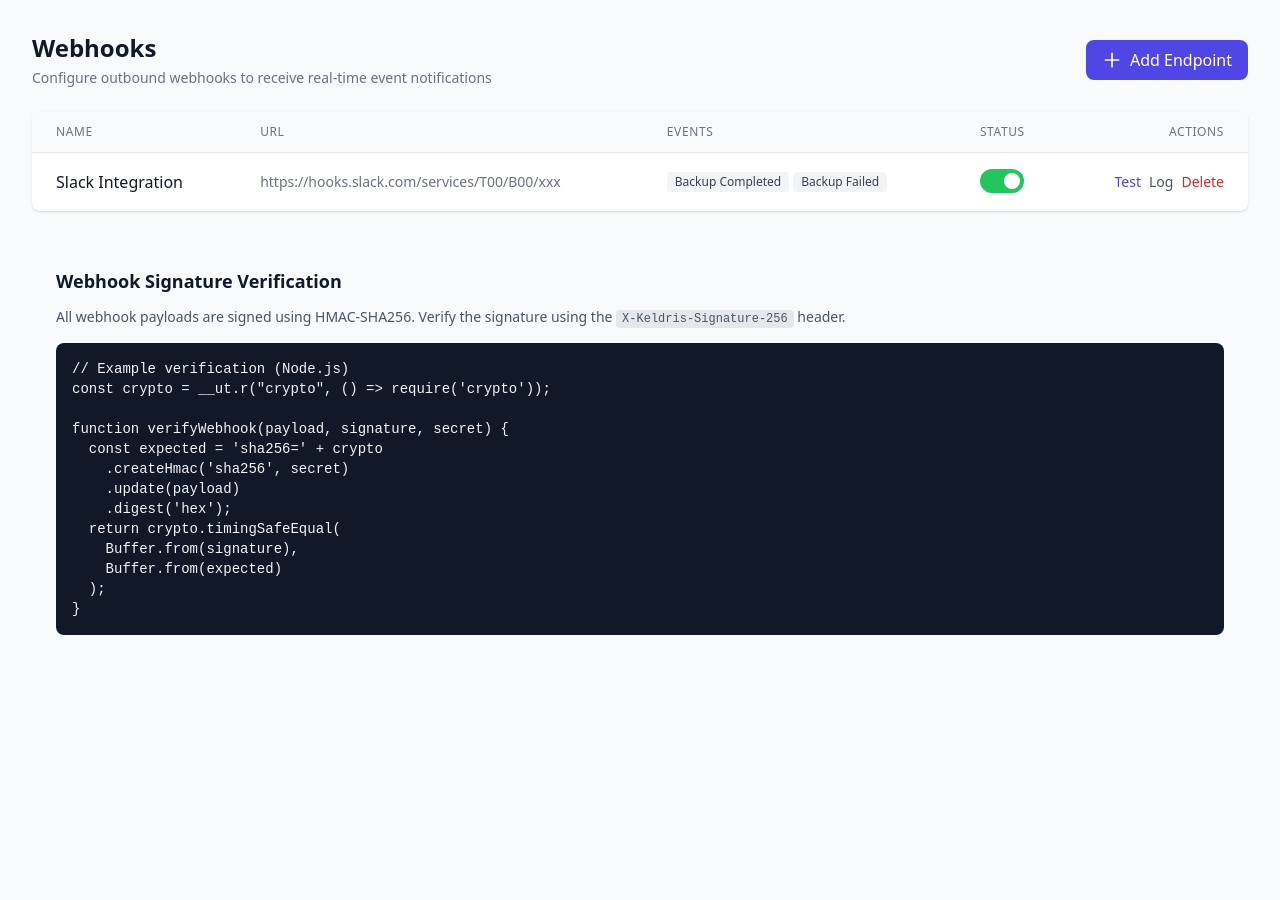
Test case: Webhooks › shows delivery log data in modal
Click the button "Log".
click(1161, 182)  # box [1149,172,1173,192]
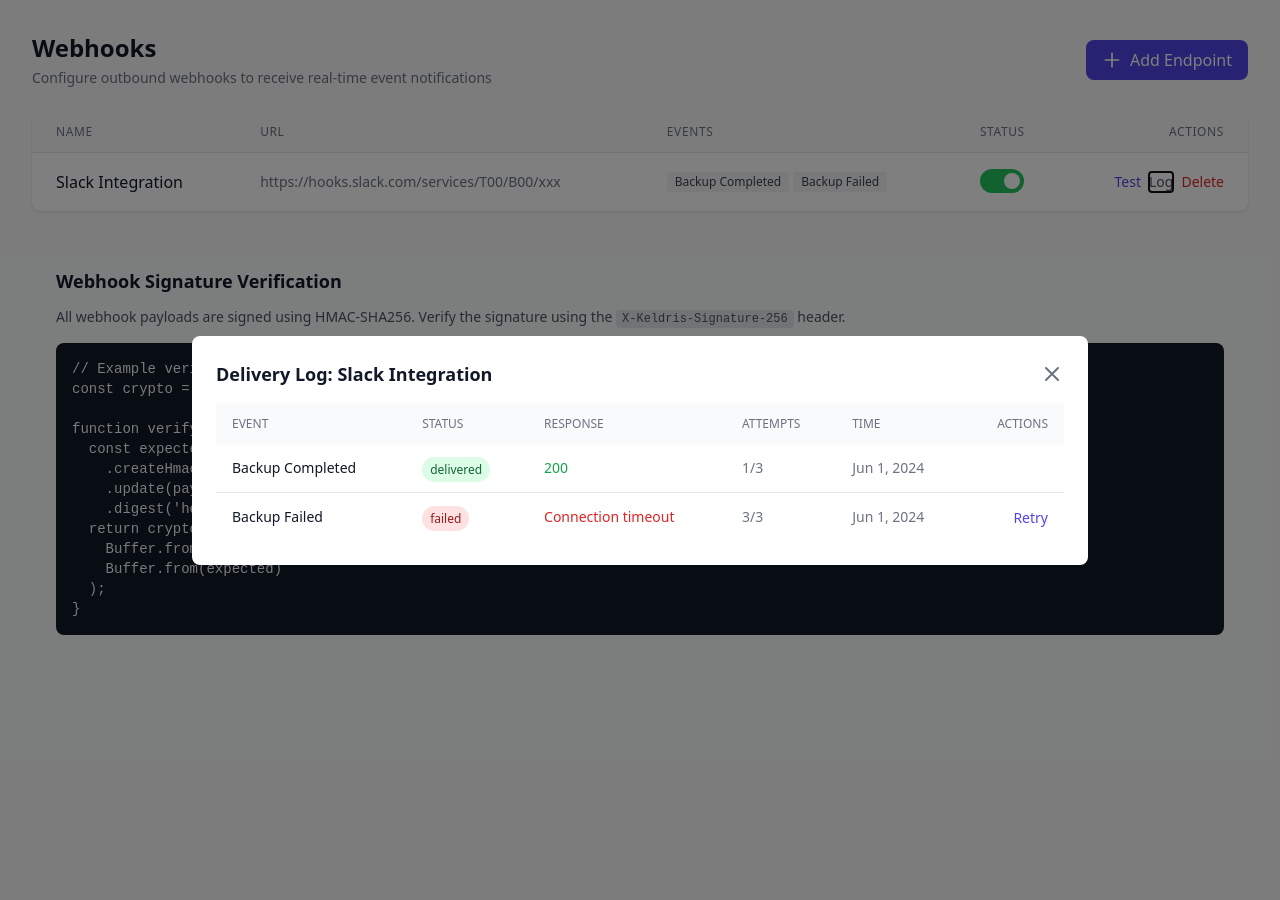
Expected: the text "200" is shown, [544,458,568,476]
Expected: the text "Connection timeout" is shown, [544,506,674,526]
Expected: the text "1/3" is shown, [726,444,836,492]
